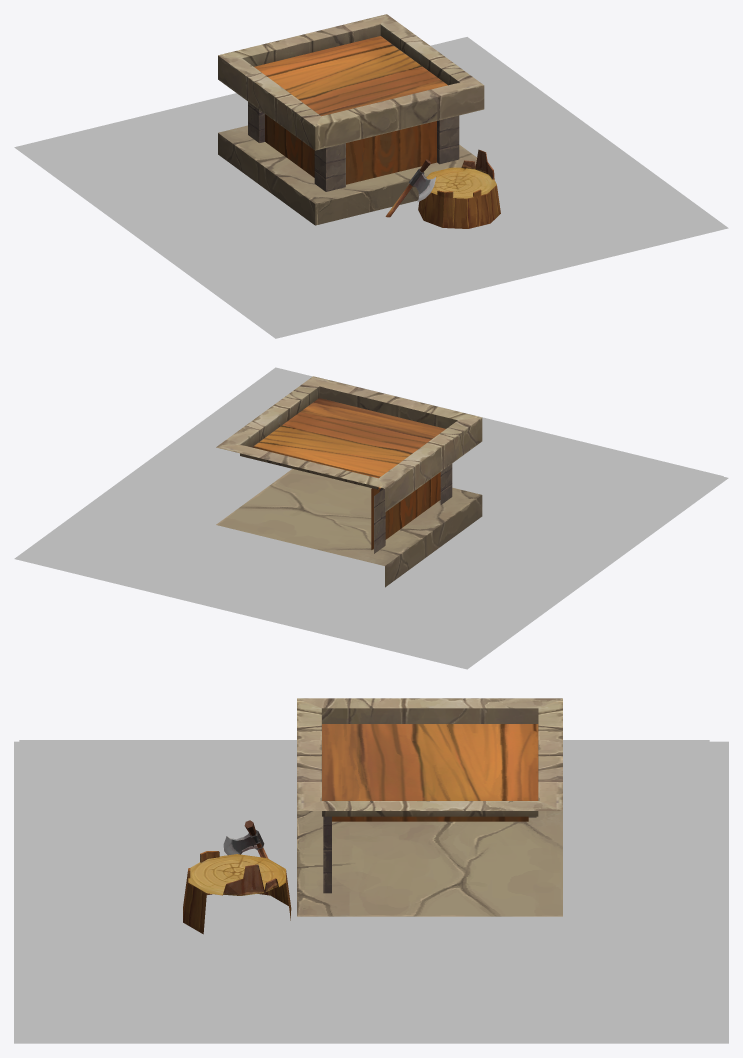
Rendered from The main city_023_LV03.FBX.
3 renders of one model, top to bottom at view 1: azimuth 30°, elevation 25°; view 2: azimuth 150°, elevation 25°; view 3: azimuth 270°, elevation 25°, orthographic. The views are drawn at different scales.
Visible parts, largest first — view 1: The main city_023_LV03; view 2: The main city_023_LV03; view 3: The main city_023_LV03.
Part boxes in pixels (left/top/right/bottom): The main city_023_LV03: left=14, top=14, right=728, bottom=338; The main city_023_LV03: left=14, top=367, right=728, bottom=669; The main city_023_LV03: left=14, top=698, right=728, bottom=1043.
Bounding box in the file's own units: 59.9 × 12.98 × 59.9.
